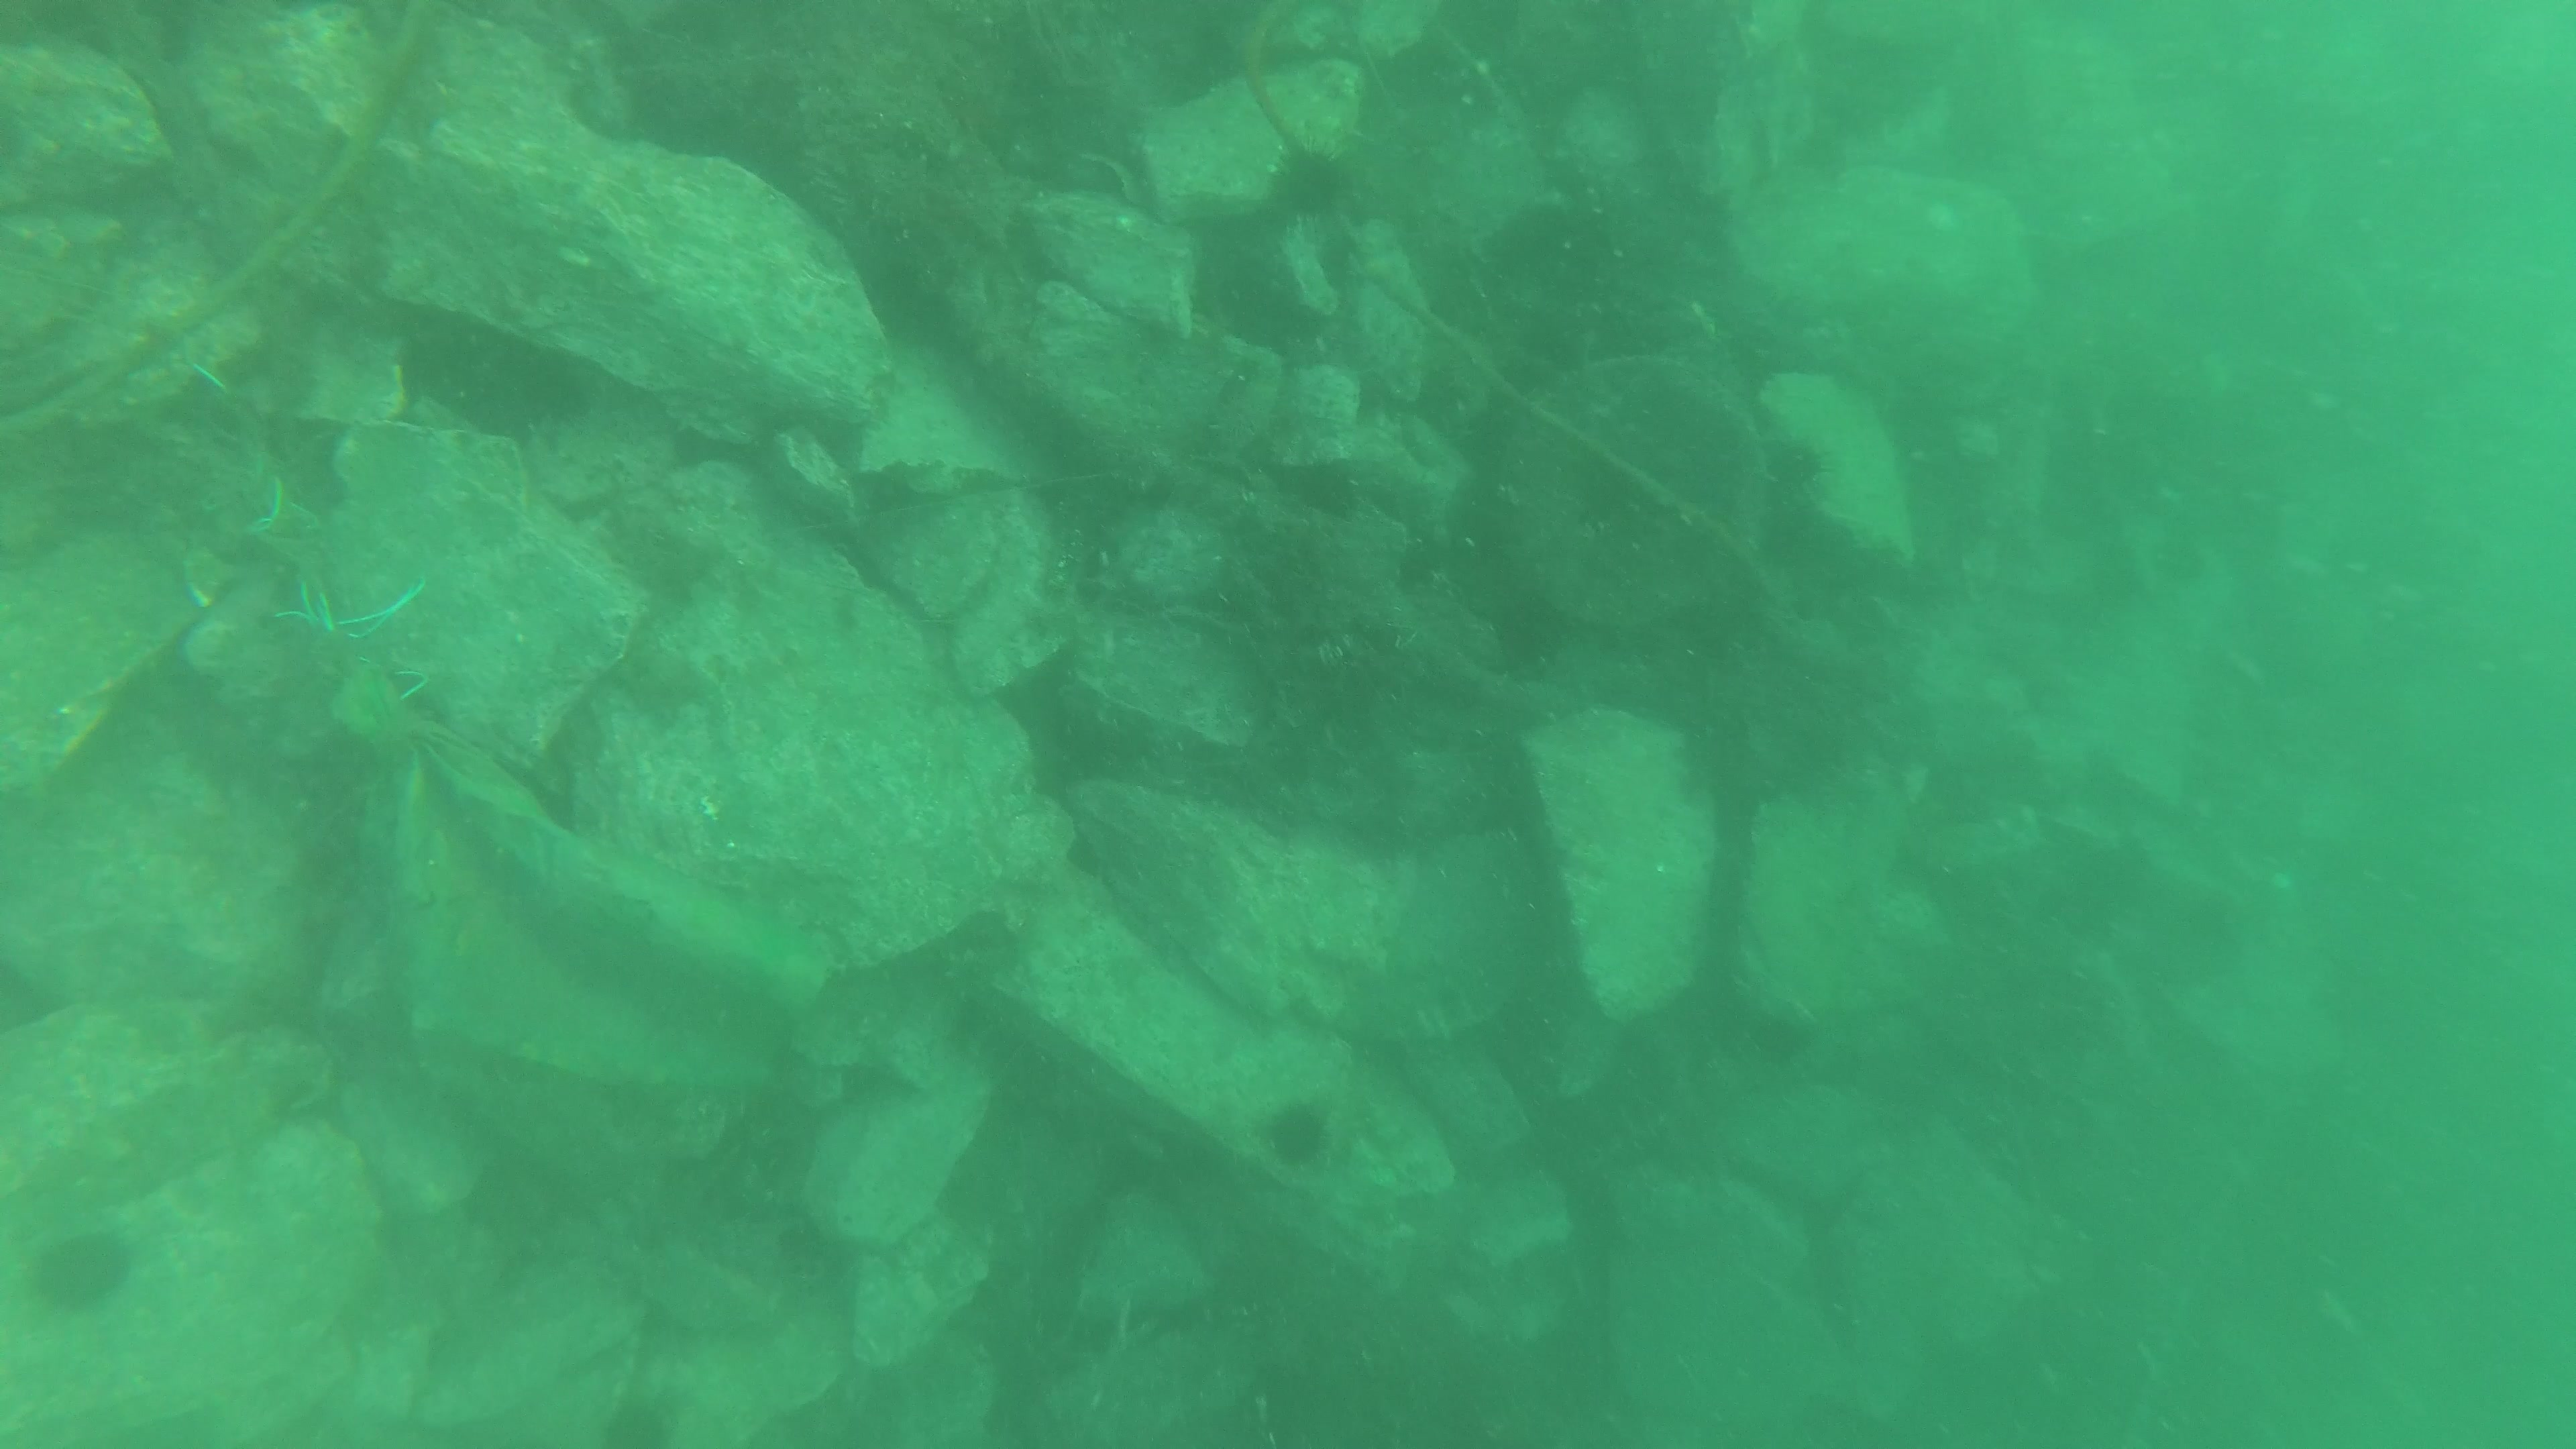echinus: (27, 1224, 138, 1320), (1254, 1093, 1338, 1173)
